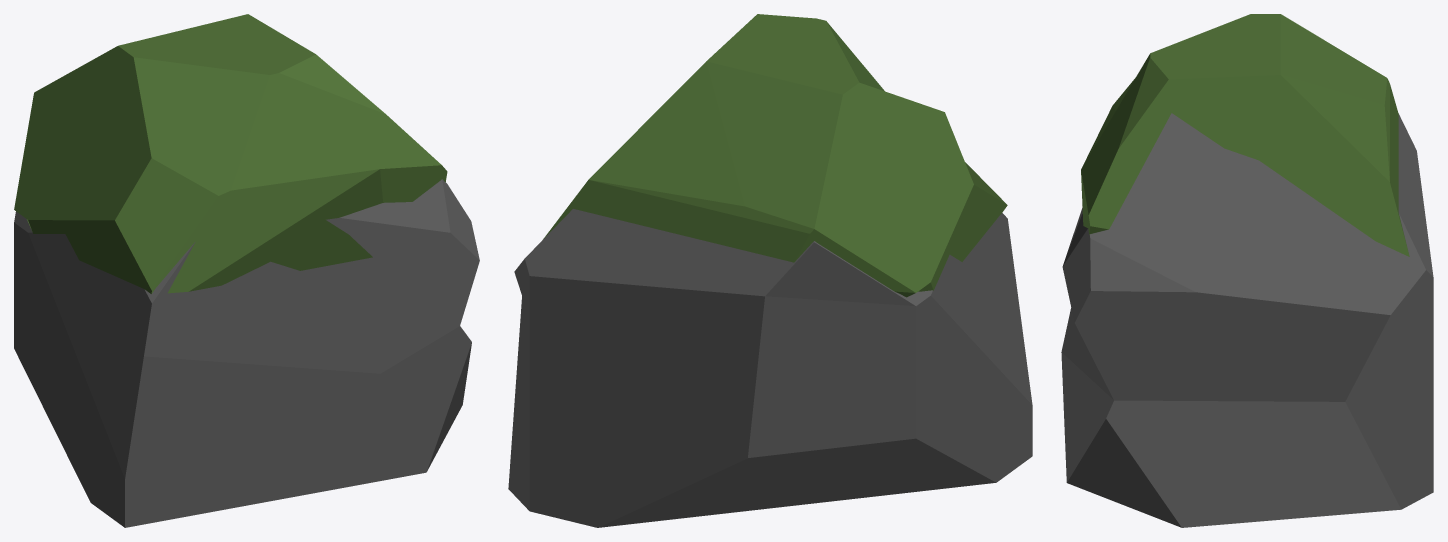
File: Rock_New_1_Mocha_6.fbx
3 views of the same model, side by side, from view 1: azimuth 30°, elevation 25°; view 2: azimuth 150°, elevation 25°; view 3: azimuth 270°, elevation 25° (orthographic). The views are drawn at different scales.
Parts seen in each view (by area): view 1: Cube.001, Cube.002; view 2: Cube.001, Cube.002; view 3: Cube.001, Cube.002.
Part boxes in pixels (x1,y1,x2,y2): Cube.001: [14, 179, 479, 527]; Cube.002: [14, 14, 447, 293]; Cube.001: [508, 209, 1032, 527]; Cube.002: [543, 14, 1007, 297]; Cube.001: [1061, 113, 1433, 527]; Cube.002: [1081, 14, 1409, 256].
Bounding box in the file's own units: 222 × 219 × 196.
